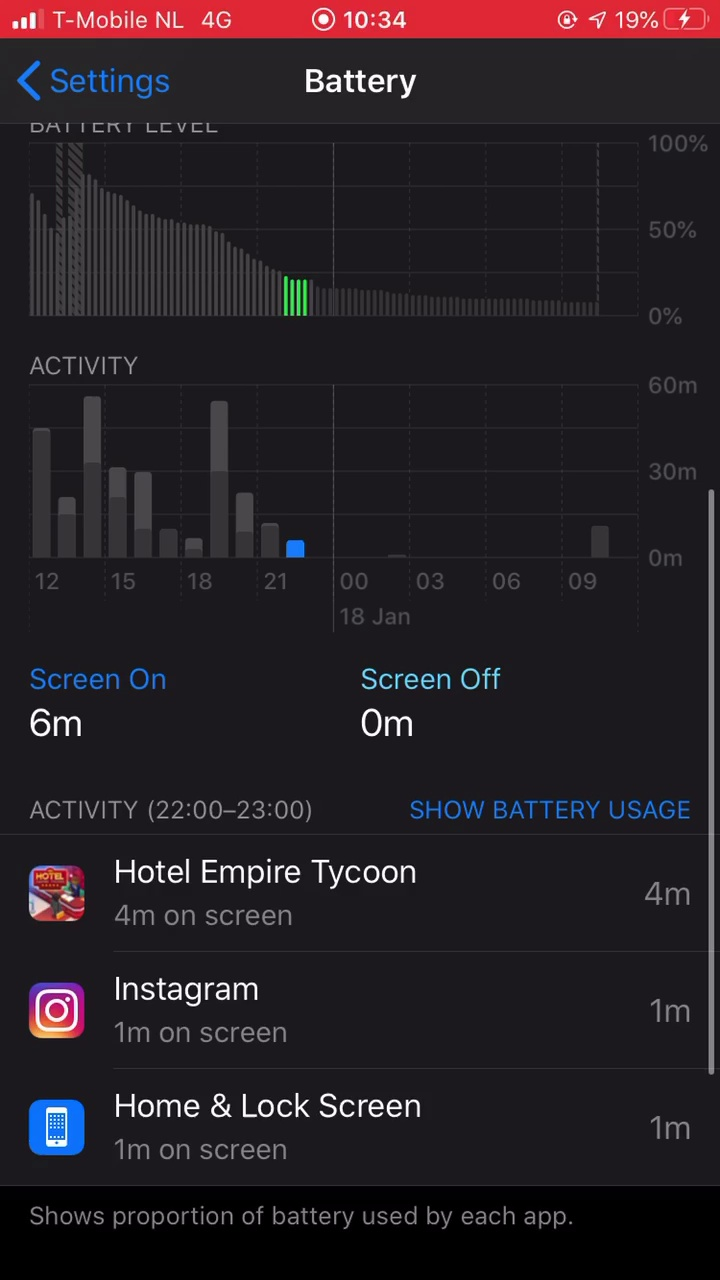activity: (9, 785, 330, 828)
app: (15, 850, 699, 940), (9, 967, 693, 1057), (13, 1077, 697, 1167)
